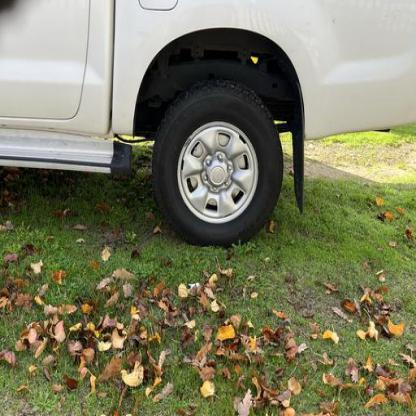Tire: (151, 77, 284, 246)
